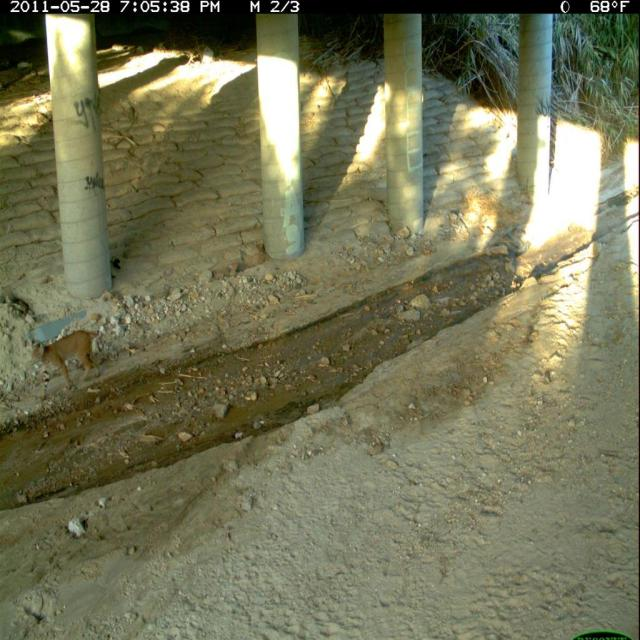bobcat: (28, 325, 105, 405)
